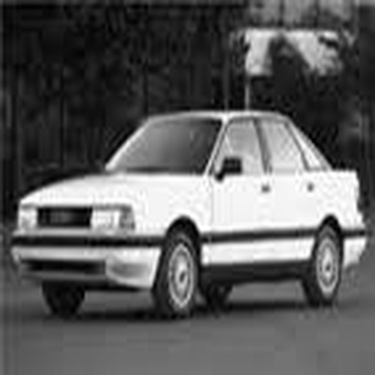car: (6, 96, 369, 331)
